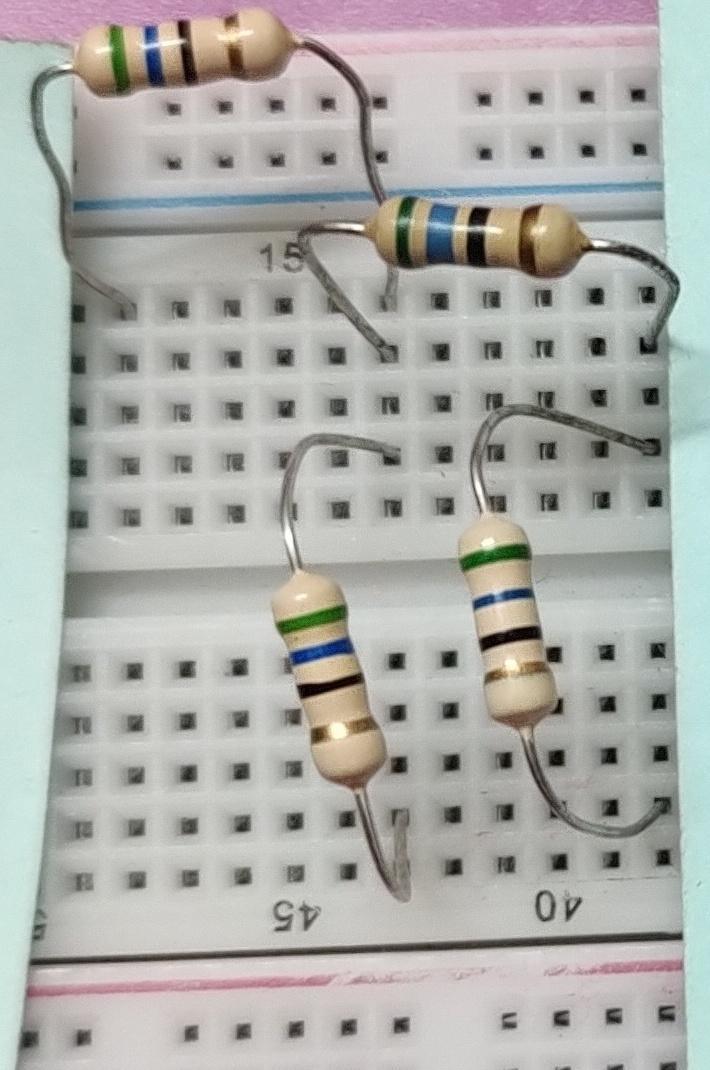resistor: (259, 553, 402, 801), (441, 497, 578, 744), (357, 173, 601, 290), (42, 7, 311, 94)
